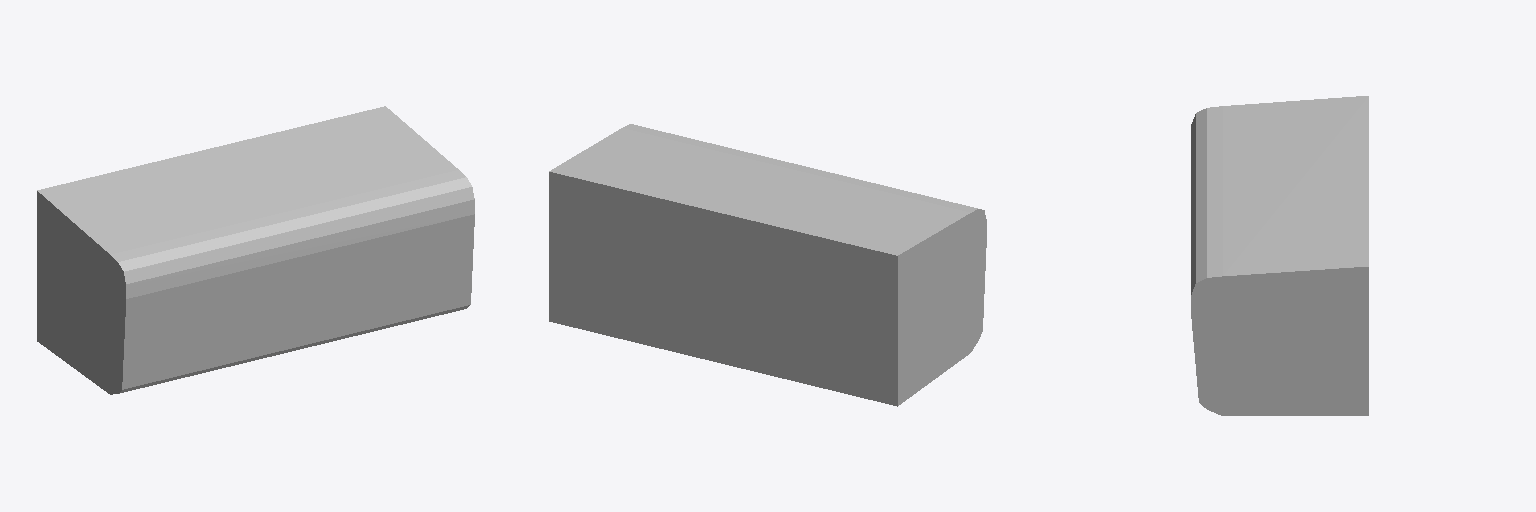
The model's file is sofa_collision_21.obj.
The picture shows the model from 3 angles: view 1: azimuth 30°, elevation 25°; view 2: azimuth 150°, elevation 25°; view 3: azimuth 270°, elevation 25°; orthographic projection.
Size of the model in its own units: 237 by 98 by 105.